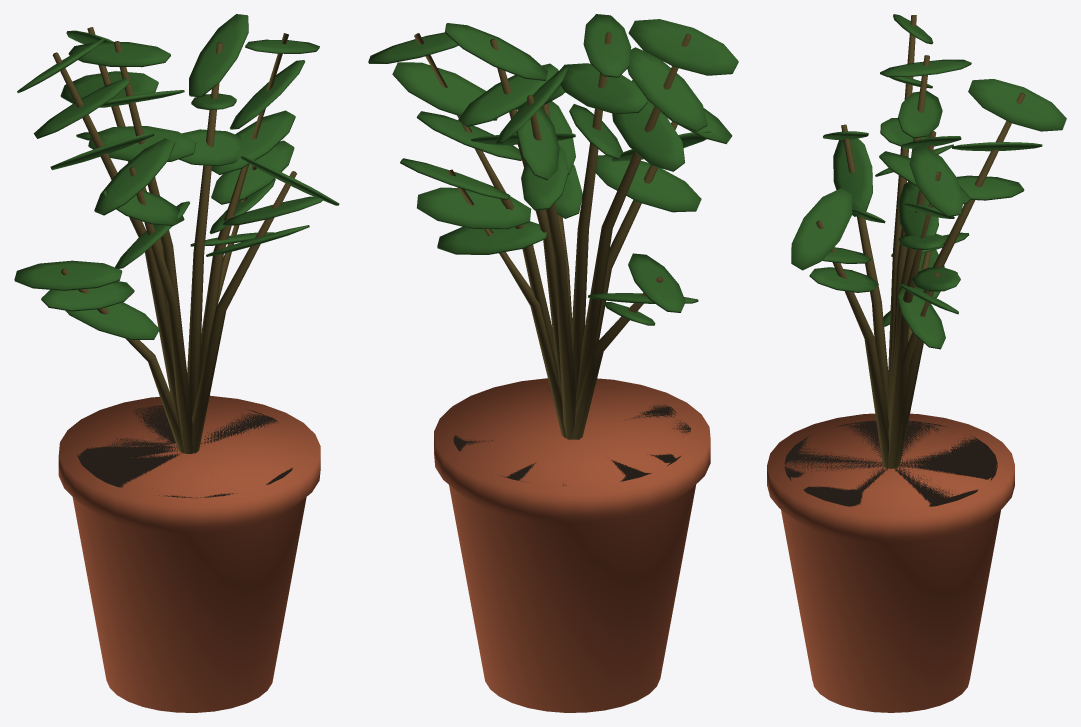
File: potted_plant.glb
3 renders of one model, left to right at view 1: azimuth 30°, elevation 25°; view 2: azimuth 150°, elevation 25°; view 3: azimuth 270°, elevation 25°, orthographic. The views are drawn at different scales.
Visible parts, largest first — view 1: potted_plant; view 2: potted_plant; view 3: potted_plant.
Boxes of the visible parts, left/top/right/bottom form: potted_plant: left=14, top=14, right=339, bottom=712; potted_plant: left=368, top=14, right=738, bottom=712; potted_plant: left=767, top=14, right=1066, bottom=712.
Bounding box in the file's own units: 0.6247 × 1.2 × 0.532.
